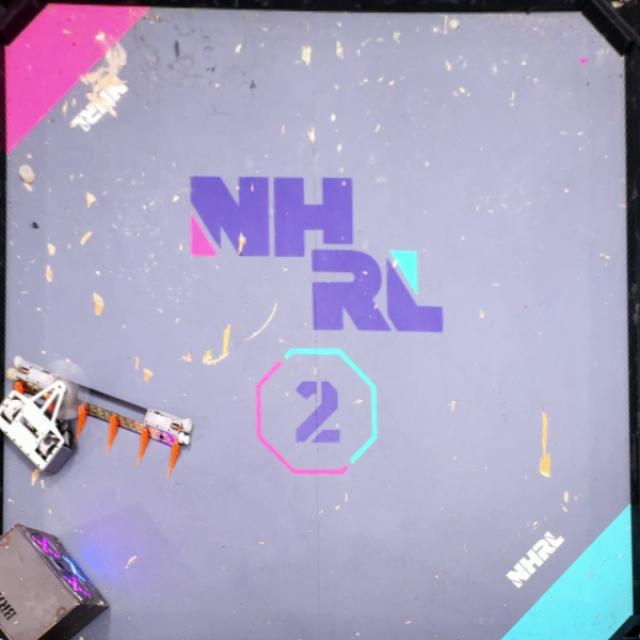housebot: (0, 522, 109, 640)
robot: (74, 381, 194, 476), (1, 358, 87, 478)
